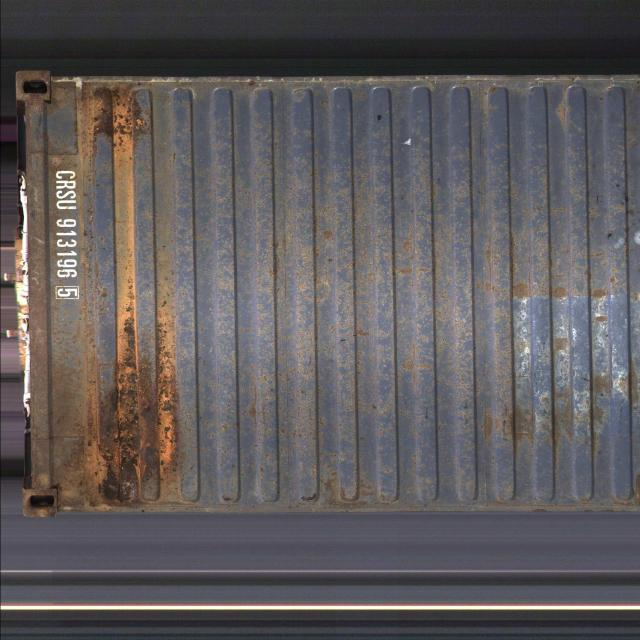rust: (66, 262, 182, 509), (73, 87, 154, 172)
